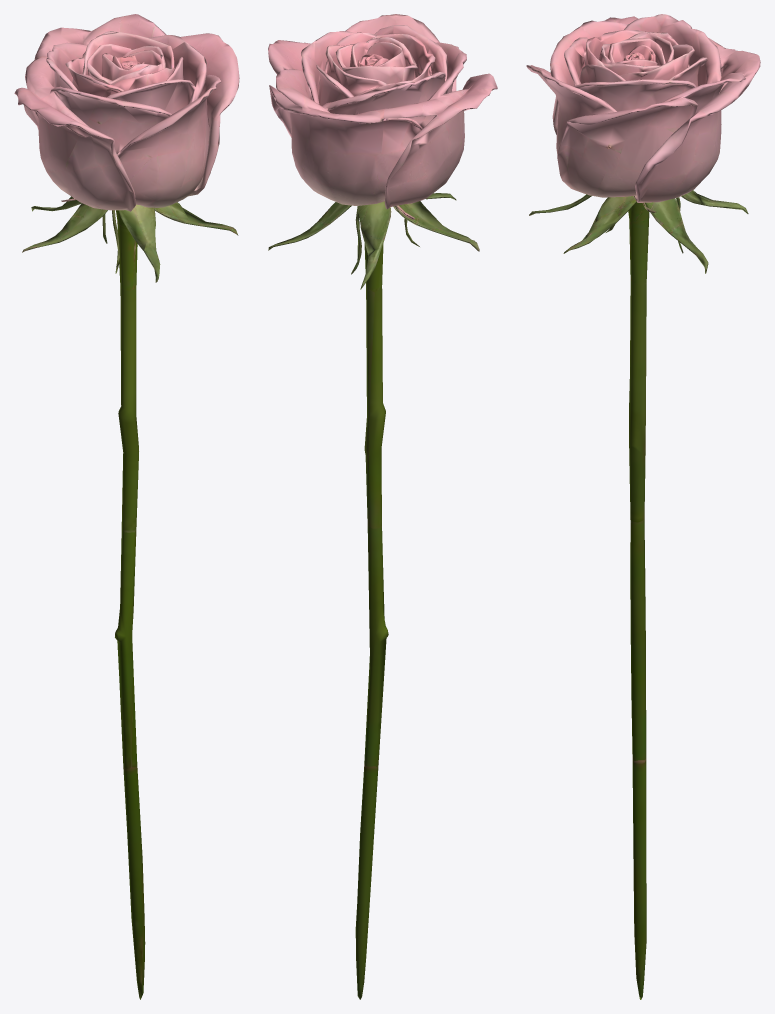
Rendered from pink_rose.glb.
3 renders of one model, left to right at view 1: azimuth 30°, elevation 25°; view 2: azimuth 150°, elevation 25°; view 3: azimuth 270°, elevation 25°, orthographic.
Visible parts, largest first — view 1: mesh_node; view 2: mesh_node; view 3: mesh_node.
Part boxes in pixels (x1,y1,x2,y2): mesh_node: (14,14,239,999); mesh_node: (268,14,497,999); mesh_node: (526,14,760,999).
Bounding box in the file's own units: 0.434 × 1.9 × 0.4256.
1 material, 1 textured.
